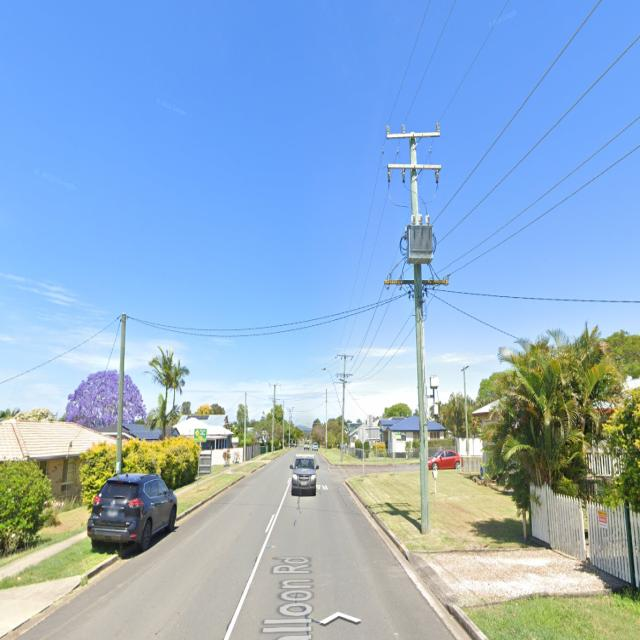HV-transmission: (380, 122, 441, 188), (334, 354, 354, 361), (269, 382, 281, 390)
crossarm: (386, 130, 441, 140), (384, 278, 449, 286), (387, 163, 441, 170), (336, 354, 354, 358), (461, 364, 469, 372), (336, 373, 353, 376), (339, 378, 347, 383), (269, 384, 281, 386), (269, 398, 280, 400), (287, 409, 293, 411), (287, 411, 293, 412)
streetlight: (321, 367, 343, 415)
timber-pole: (408, 130, 432, 535), (115, 313, 127, 476), (340, 353, 346, 462), (463, 366, 469, 456), (272, 384, 276, 456), (244, 392, 246, 461), (326, 388, 328, 453), (282, 399, 284, 451), (288, 409, 290, 449)
transformer: (404, 212, 434, 266)
